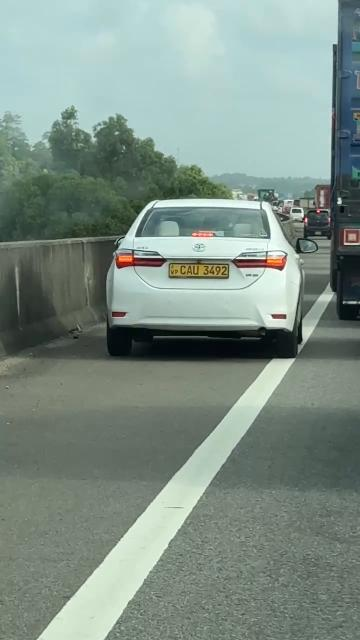illegal overtaking: (110, 189, 322, 357)
number plate: (159, 251, 239, 286)
